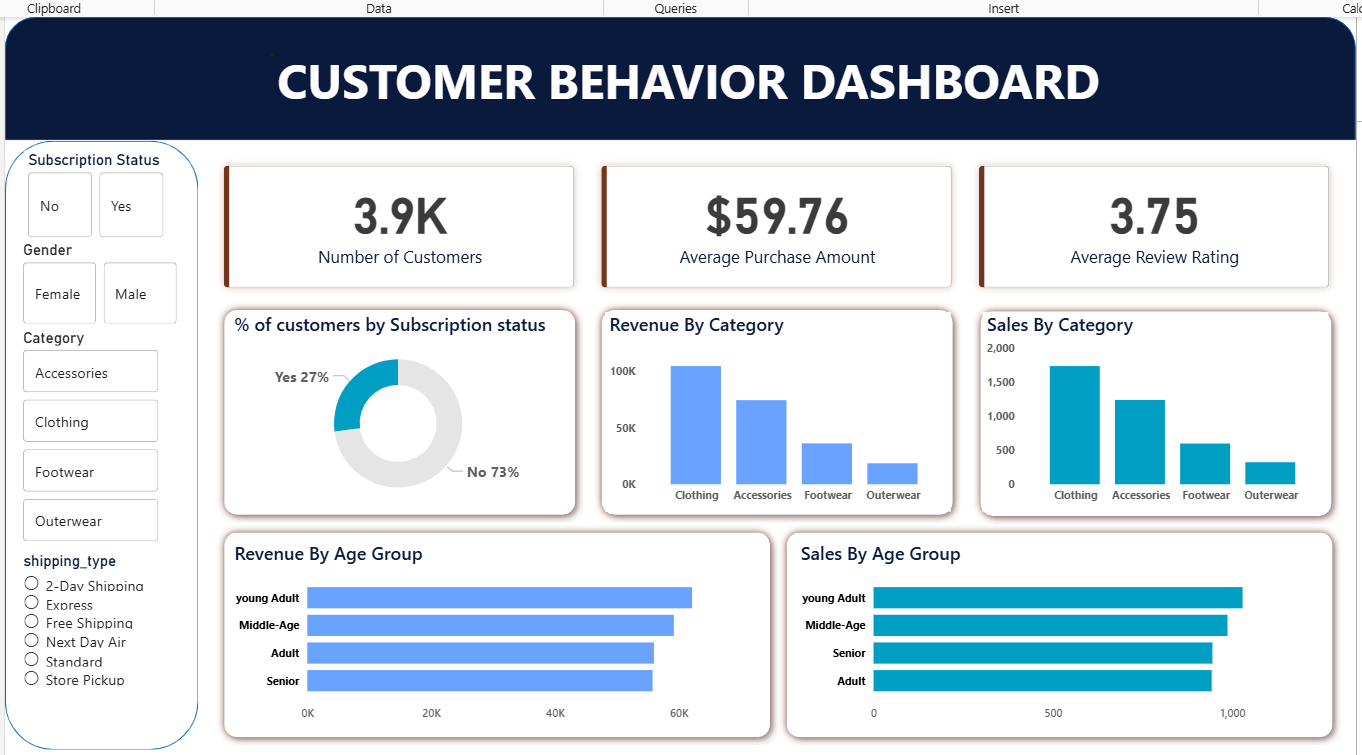

This screenshot's page, from the dashboard's own definition file:
{"tool":"powerbi","page":{"name":"Page 1","canvas":[1500,820],"ordinal":0},"visuals":[{"type":"cardVisual","fields":{"Data":["customer_behavior customer.Number of Customers","customer_behavior customer.Avarage Purchase Amount","customer_behavior customer.Average Review Rating"]},"box":[214.7,136.9,1285,191.1],"z":0},{"type":"shape","box":[0,0,1499.7,136.9],"z":1000},{"type":"textbox","box":[0,28.7,1499.7,108.2],"z":2000},{"type":"shape","box":[235,316.2,407.5,245.2],"z":3000},{"type":"donutChart","title":"% of customers by Subscription status","fields":{"Category":["customer_behavior customer.subscription_status"],"Y":["CountNonNull(customer_behavior customer.customer_id)"]},"box":[250.2,328,373.7,221.5],"z":4000},{"type":"shape","box":[1073.6,317.9,407.5,245.2],"z":5000},{"type":"shape","box":[654.3,316.2,407.5,245.2],"z":6000},{"type":"clusteredColumnChart","title":"Revenue By Category","fields":{"Y":["Sum(customer_behavior customer.purchase_amount)"],"Category":["customer_behavior customer.category"]},"box":[666.2,328,383.8,221.5],"z":7000},{"type":"clusteredColumnChart","title":"Sales By Category","fields":{"Y":["CountNonNull(customer_behavior customer.customer_id)"],"Category":["customer_behavior customer.category"]},"box":[1085.5,328,383.8,221.5],"z":8000},{"type":"shape","box":[0,136.9,214.7,676.3],"z":9000},{"type":"advancedSlicerVisual","title":"Subscription Status","fields":{"Values":["customer_behavior customer.subscription_status"]},"box":[20.3,148.8,160.6,101.4],"z":10000},{"type":"advancedSlicerVisual","title":"Gender","fields":{"Values":["customer_behavior customer.gender"]},"box":[15.2,248.5,180.9,98.1],"z":11000},{"type":"advancedSlicerVisual","title":"Category","fields":{"Values":["customer_behavior customer.category"]},"box":[15.2,344.9,160.6,241.8],"z":12000},{"type":"listSlicer","fields":{"Values":["customer_behavior customer.shipping_type"]},"box":[15.2,593.4,180.9,201.2],"z":13000},{"type":"shape","box":[235,563,623.9,245.2],"z":13001},{"type":"clusteredBarChart","title":"Revenue By Age Group","fields":{"Y":["Sum(customer_behavior customer.purchase_amount)"],"Category":["customer_behavior customer.age_group"]},"box":[250.2,581.6,583.3,209.7],"z":13002},{"type":"shape","box":[858.9,563,623.9,245.2],"z":13003},{"type":"clusteredBarChart","title":"Sales By Age Group","fields":{"Y":["CountNonNull(customer_behavior customer.customer_id)"],"Category":["customer_behavior customer.age_group"]},"box":[879.2,581.6,583.3,209.7],"z":13004}]}

Visuals, with their boxes in screenshot pixels (x1, y1, x2, y2):
cardVisual - customer_behavior customer.Number of Customers x customer_behavior customer.Avarage Purchase Amount: (left=192, top=133, right=1343, bottom=304)
shape: (left=0, top=11, right=1343, bottom=133)
textbox: (left=0, top=36, right=1343, bottom=133)
shape: (left=210, top=294, right=575, bottom=513)
"% of customers by Subscription status" donutChart: (left=224, top=304, right=559, bottom=503)
shape: (left=961, top=295, right=1326, bottom=515)
shape: (left=586, top=294, right=951, bottom=513)
"Revenue By Category" clusteredColumnChart: (left=597, top=304, right=940, bottom=503)
"Sales By Category" clusteredColumnChart: (left=972, top=304, right=1316, bottom=503)
shape: (left=0, top=133, right=192, bottom=739)
"Subscription Status" advancedSlicerVisual: (left=18, top=144, right=162, bottom=235)
"Gender" advancedSlicerVisual: (left=14, top=233, right=176, bottom=321)
"Category" advancedSlicerVisual: (left=14, top=319, right=157, bottom=536)
listSlicer - customer_behavior customer.shipping_type: (left=14, top=542, right=176, bottom=722)
shape: (left=210, top=515, right=769, bottom=734)
"Revenue By Age Group" clusteredBarChart: (left=224, top=531, right=746, bottom=719)
shape: (left=769, top=515, right=1328, bottom=734)
"Sales By Age Group" clusteredBarChart: (left=787, top=531, right=1310, bottom=719)
